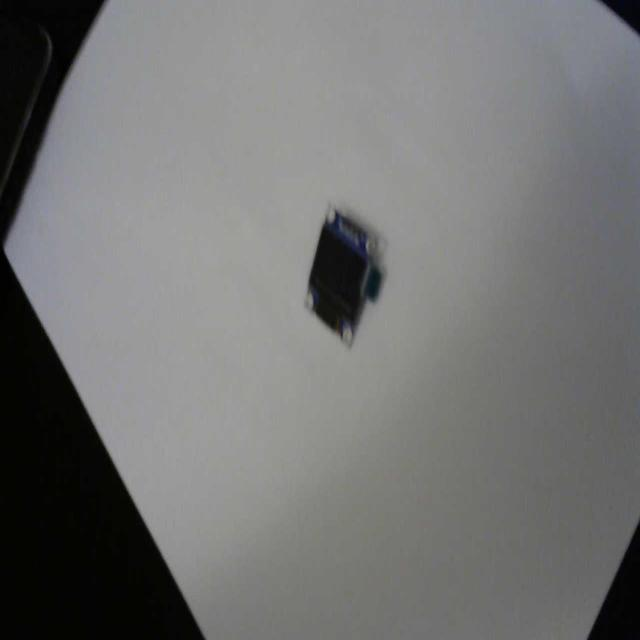oled: (304, 194, 390, 354)
